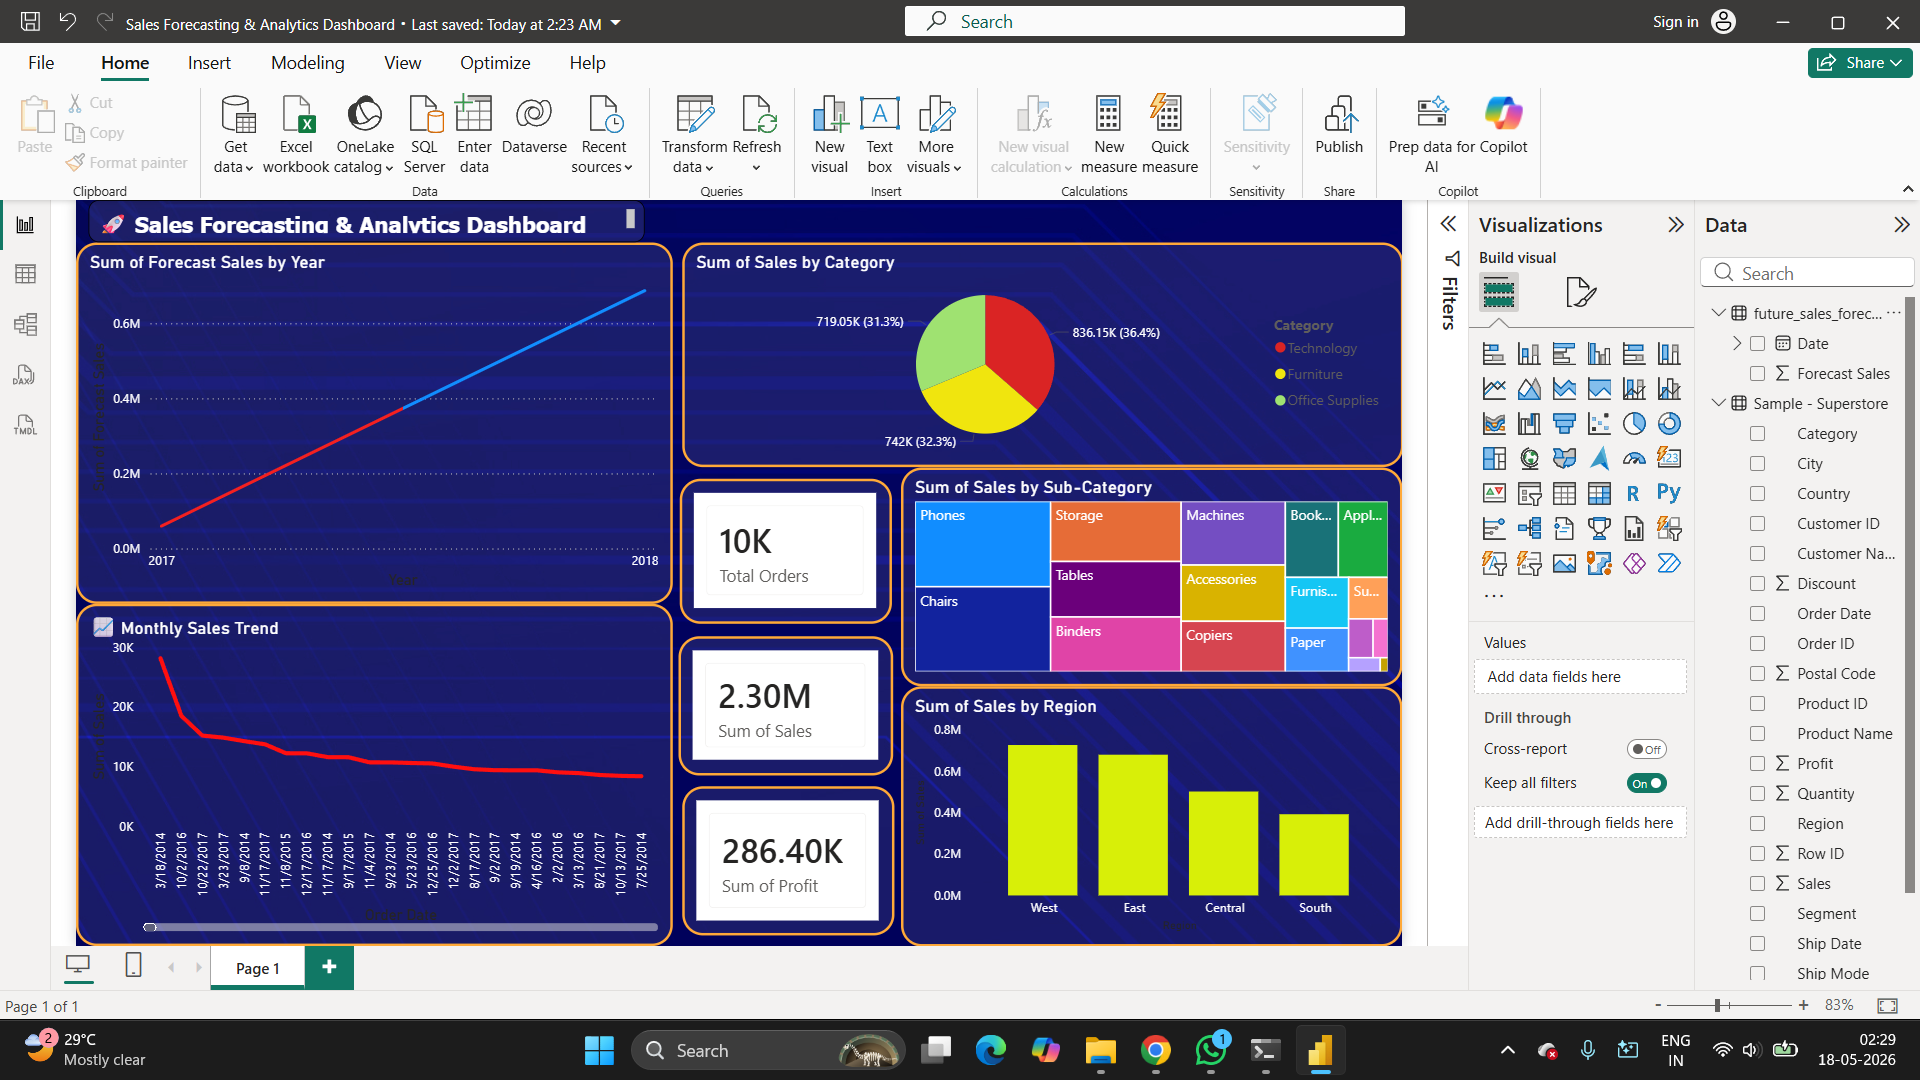

Layout of this report page (visuals, bound fields, positions):
{"tool":"powerbi","page":{"name":"Page 1","canvas":[1280,720],"ordinal":0},"visuals":[{"type":"cardVisual","fields":{"Data":["Sum(Sample - Superstore.Profit)"]},"box":[1064.8,5.5,204.5,150.9],"z":0},{"type":"cardVisual","fields":{"Data":["Sum(Sample - Superstore.Sales)"]},"box":[886.5,5.5,168.8,150.9],"z":1000},{"type":"cardVisual","fields":{"Data":["Sample - Superstore.Total Orders"]},"box":[712.2,5.5,168.8,150.9],"z":2000},{"type":"lineChart","title":"📈 Monthly Sales Trend","fields":{"Category":["Sample - Superstore.Order Date"],"Y":["Sum(Sample - Superstore.Sales)"]},"box":[12.1,41,690.1,359.5],"z":3000},{"type":"clusteredColumnChart","fields":{"Category":["Sample - Superstore.Region"],"Y":["Sum(Sample - Superstore.Sales)"]},"box":[626.1,410.2,643,299.2],"z":4000},{"type":"pieChart","fields":{"Category":["Sample - Superstore.Category"],"Y":["Sum(Sample - Superstore.Sales)"]},"box":[226.8,410.2,386.1,299.2],"z":5000},{"type":"slicer","fields":{"Values":["Sample - Superstore.Sub-Category","Sample - Superstore.Sales"]},"box":[12.3,410.3,205.8,299.1],"z":6000},{"type":"areaChart","fields":{"Category":["future_sales_forecast.Date.Variation.Date Hierarchy.Year","future_sales_forecast.Date.Variation.Date Hierarchy.Month","future_sales_forecast.Date.Variation.Date Hierarchy.Day"],"Y":["Sum(future_sales_forecast.Forecast Sales)"]},"box":[711.8,160.5,557.4,240.1],"z":7000},{"type":"textbox","box":[12.3,0,536.5,41.2],"z":8000}]}

Visuals, with their boxes on the page's 1280x720 design canvas (x1, y1, x2, y2). These are canvas units, not pixel positions in the 1920x1080 screenshot, which may show the page scaled, cropped or inside an application window:
cardVisual - Sum(Sample - Superstore.Profit): pyautogui.locateOnScreen(1065, 6, 1269, 156)
cardVisual - Sum(Sample - Superstore.Sales): pyautogui.locateOnScreen(886, 6, 1055, 156)
cardVisual - Sample - Superstore.Total Orders: pyautogui.locateOnScreen(712, 6, 881, 156)
"📈 Monthly Sales Trend" lineChart: pyautogui.locateOnScreen(12, 41, 702, 400)
clusteredColumnChart - Sample - Superstore.Region x Sum(Sample - Superstore.Sales): pyautogui.locateOnScreen(626, 410, 1269, 709)
pieChart - Sample - Superstore.Category x Sum(Sample - Superstore.Sales): pyautogui.locateOnScreen(227, 410, 613, 709)
slicer - Sample - Superstore.Sub-Category x Sample - Superstore.Sales: pyautogui.locateOnScreen(12, 410, 218, 709)
areaChart - future_sales_forecast.Date.Variation.Date Hierarchy.Year x future_sales_forecast.Date.Variation.Date Hierarchy.Month: pyautogui.locateOnScreen(712, 160, 1269, 401)
textbox: pyautogui.locateOnScreen(12, 0, 549, 41)
